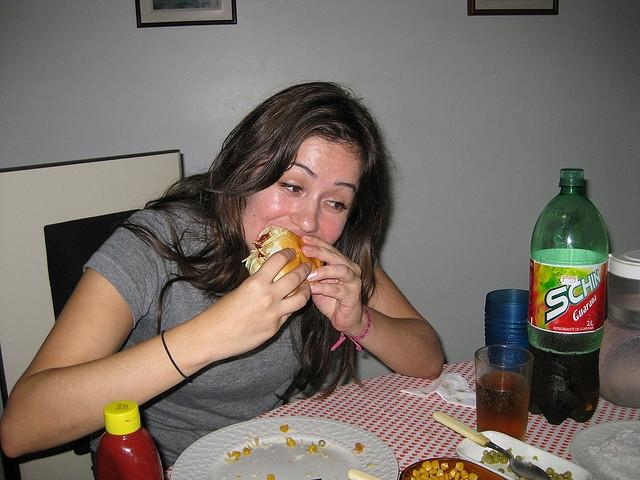corn: (352, 442, 363, 454), (422, 460, 432, 472), (286, 437, 296, 447), (455, 462, 464, 471), (468, 472, 478, 480), (449, 468, 457, 478), (431, 460, 440, 468), (436, 468, 444, 477), (461, 470, 468, 480), (280, 424, 288, 432), (454, 472, 461, 480), (308, 444, 316, 451), (232, 450, 241, 456), (441, 463, 448, 470), (267, 474, 275, 480), (412, 469, 418, 477), (243, 449, 251, 454), (255, 437, 259, 446), (432, 475, 439, 480), (427, 476, 433, 480)
